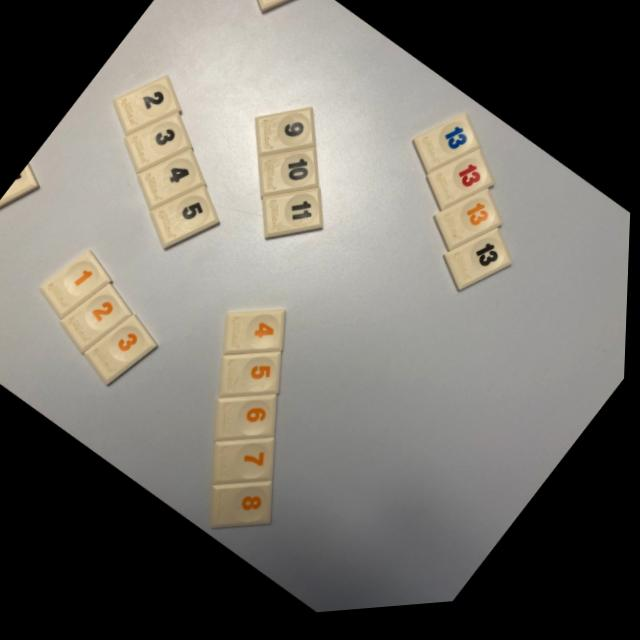black_10: (260, 153, 318, 202)
black_11: (264, 194, 324, 243)
black_13: (446, 237, 515, 299)
black_2: (114, 79, 182, 137)
black_3: (126, 117, 192, 175)
black_4: (139, 153, 205, 212)
black_5: (152, 190, 221, 252)
black_9: (256, 113, 316, 160)
blue_13: (414, 121, 481, 182)
blue_8: (257, 0, 304, 17)
orange_1: (41, 252, 113, 320)
orange_13: (436, 198, 505, 259)
orange_2: (63, 286, 134, 354)
orange_3: (86, 317, 159, 387)
orange_4: (227, 316, 287, 358)
orange_5: (223, 357, 283, 400)
orange_6: (219, 399, 280, 445)
orange_7: (217, 443, 277, 488)
orange_8: (215, 486, 276, 532)
red_13: (429, 157, 495, 219)
